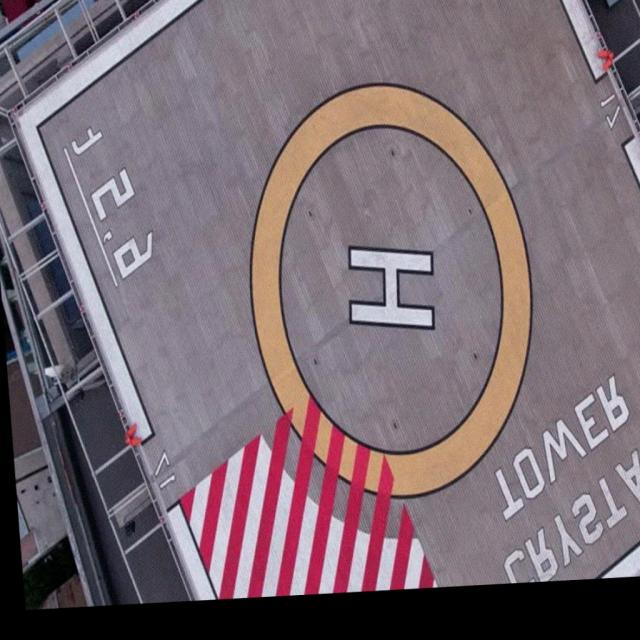helipad: (242, 79, 537, 504)
